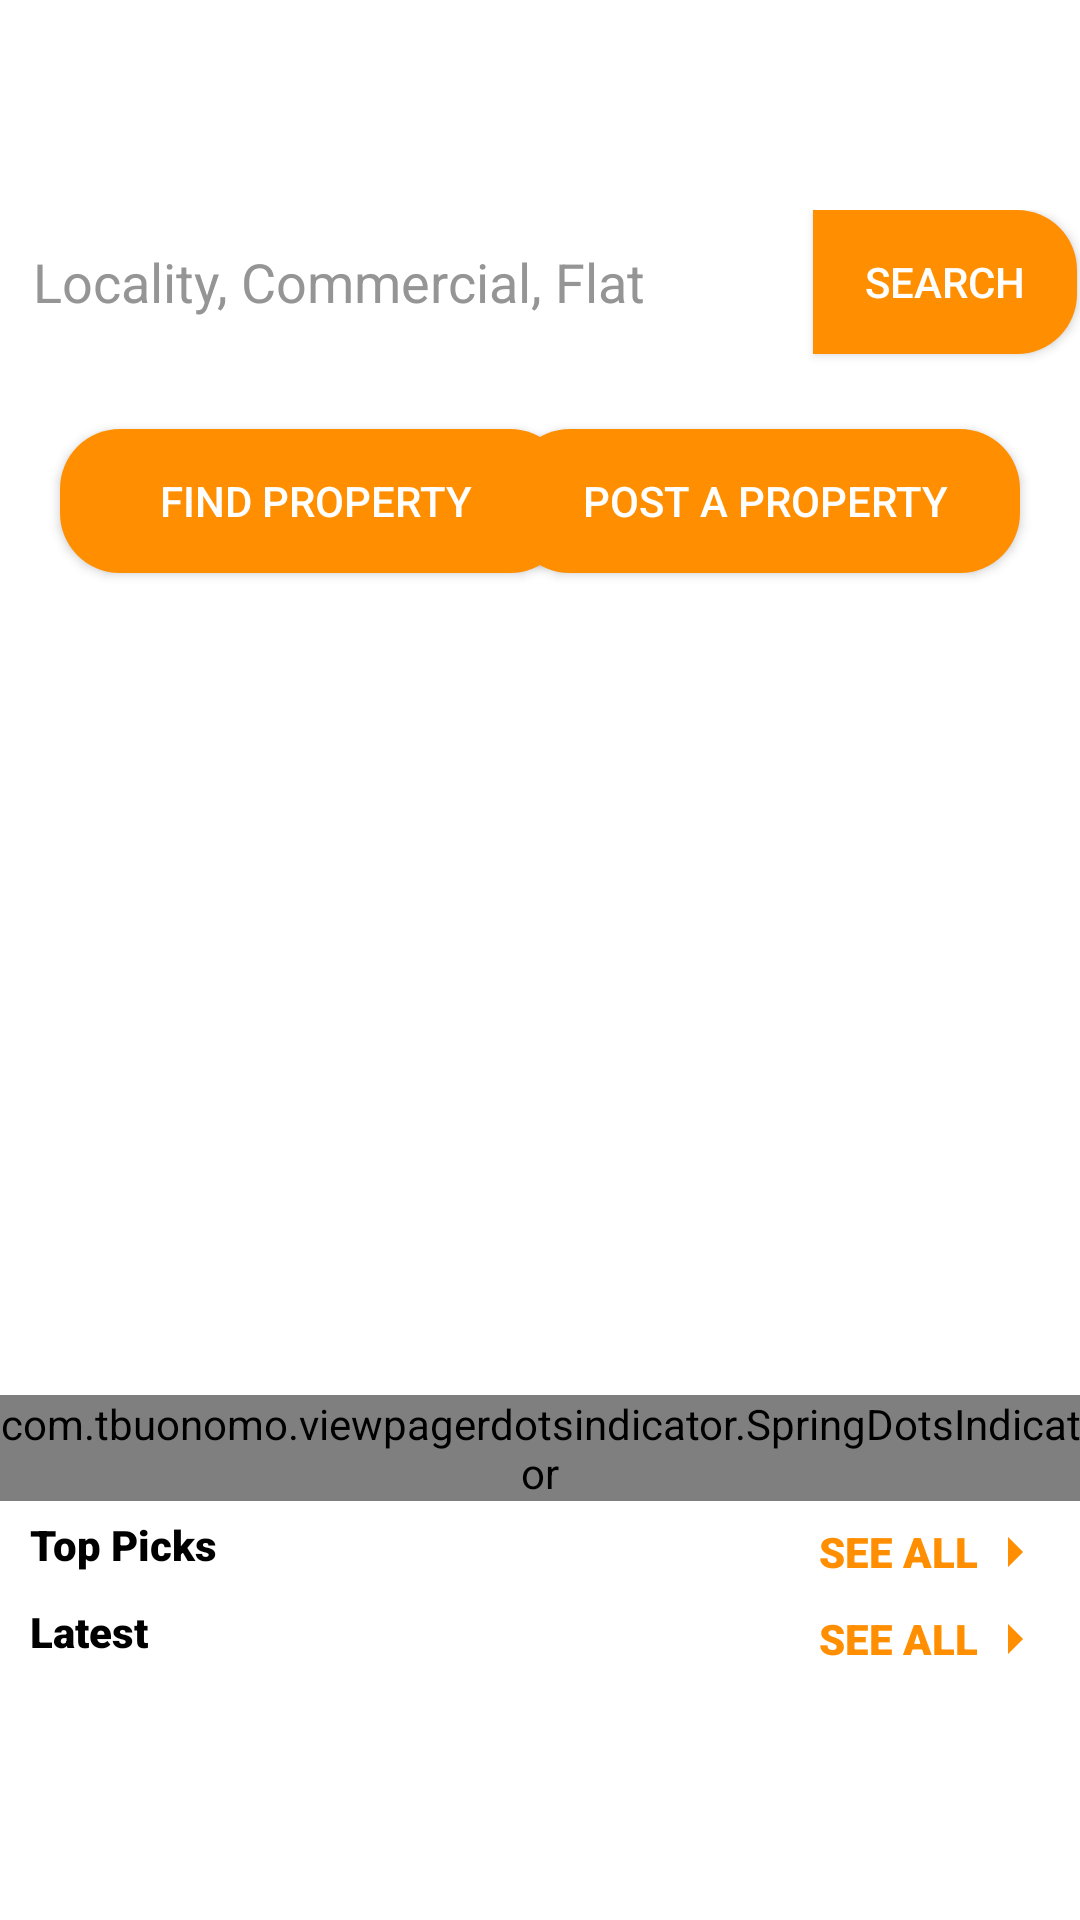

Named icons in this screenshot (1080px x 1920px) and their centers, (x=x, y=y):
arrow right: (x=1015, y=1552), (x=1015, y=1639)
